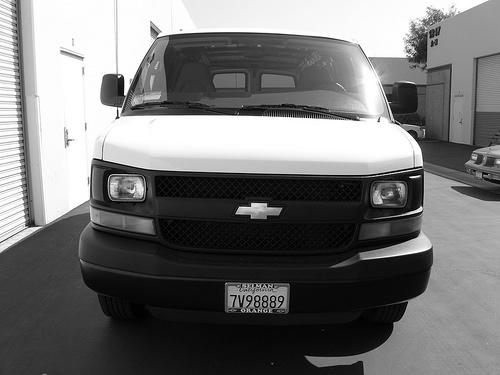car: (78, 31, 435, 329)
